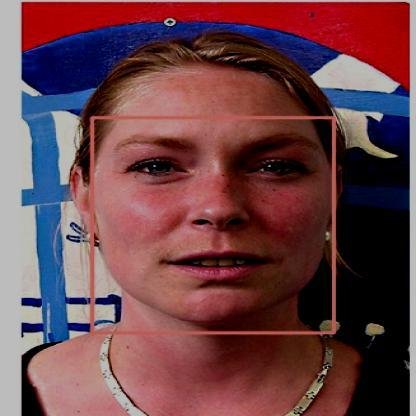without_mask: (92, 118, 333, 333)
